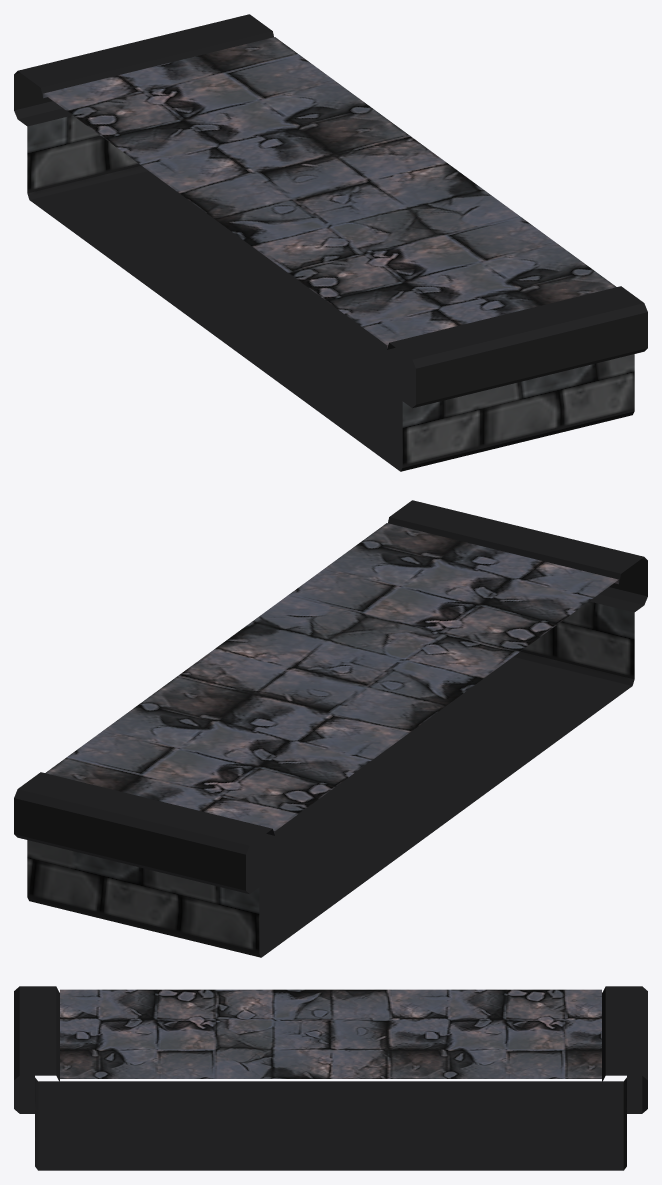
Rendered from M_Platform_module_int2.fbx.
3 views of the same model, one above another, from view 1: azimuth 30°, elevation 25°; view 2: azimuth 150°, elevation 25°; view 3: azimuth 270°, elevation 25° (orthographic). The views are drawn at different scales.
Parts seen in each view (by area): view 1: M_Platform_module_int_2; view 2: M_Platform_module_int_2; view 3: M_Platform_module_int_2.
Boxes of the visible parts, bbox=[...] form: M_Platform_module_int_2: bbox=[14, 14, 647, 471]; M_Platform_module_int_2: bbox=[14, 500, 647, 957]; M_Platform_module_int_2: bbox=[14, 986, 647, 1170].
Size of the model in its own units: 100 by 49.7 by 300.
